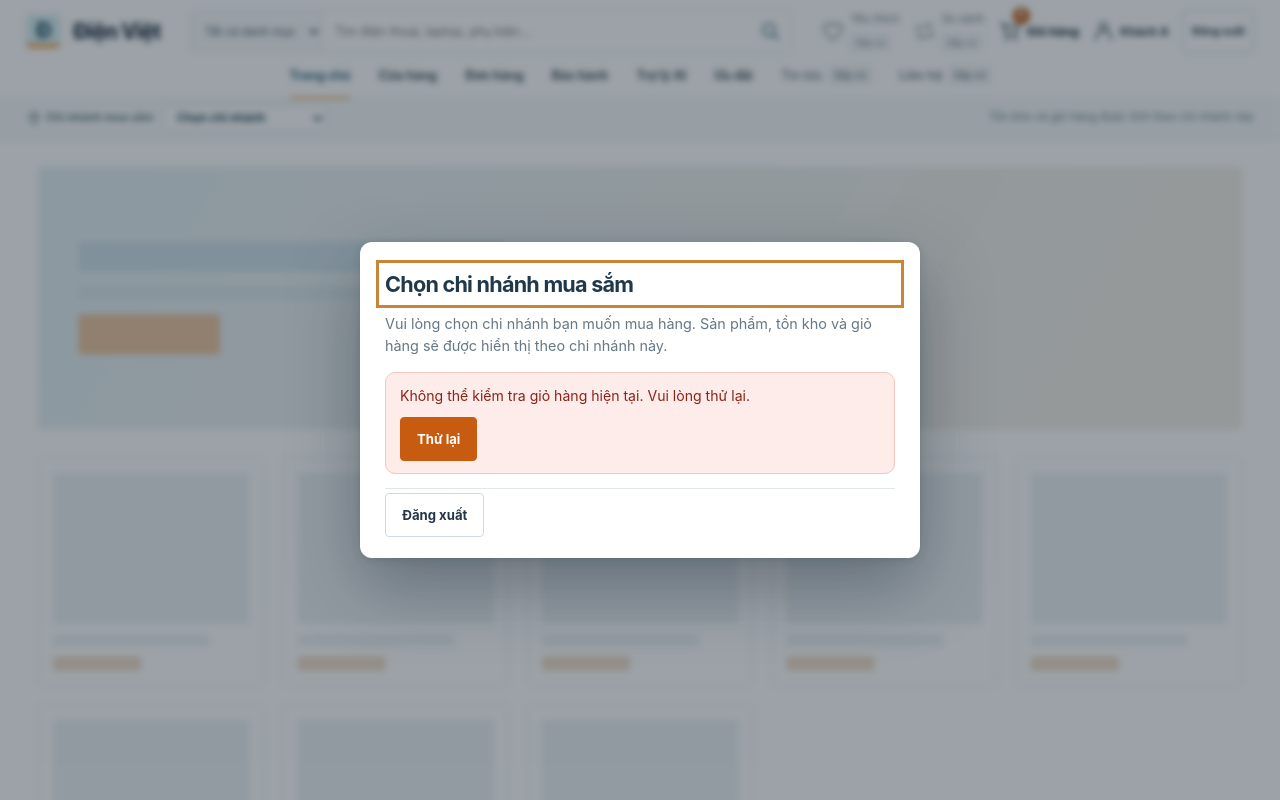
Test: C. Cart synchronization › a cart that failed to load is not treated as empty; retry reloads it
This screenshot has width=1280, height=800.
Expected: the message shows "Không thể kiểm tra giỏ hàng hiện tại", [400, 387, 750, 404]
Click the button "Thử lại". click: (439, 439)
box: [400, 416, 477, 461]
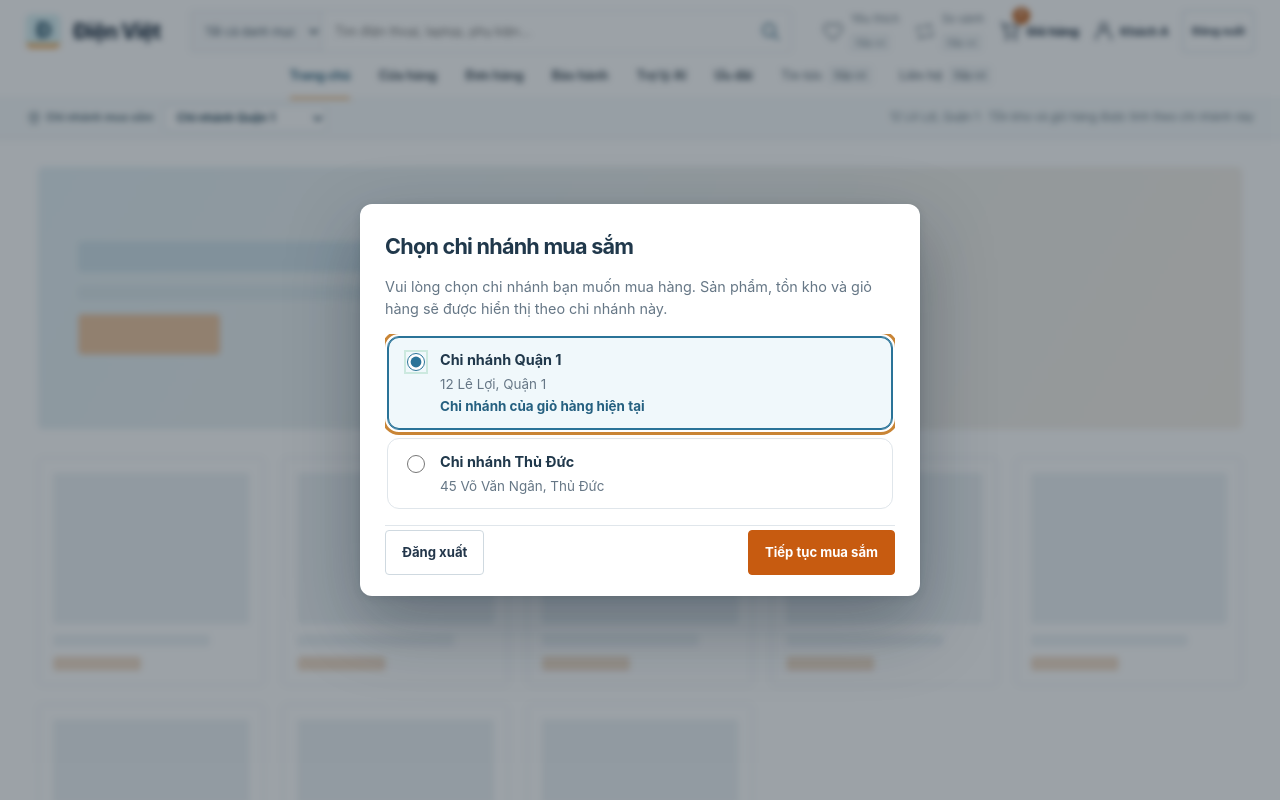
Result: the radio button labelled "Quận 1" is checked at [407, 353, 425, 371]
